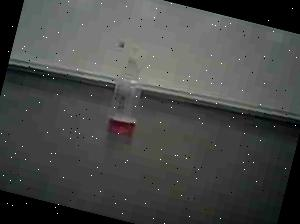hazard: (90, 36, 158, 144)
